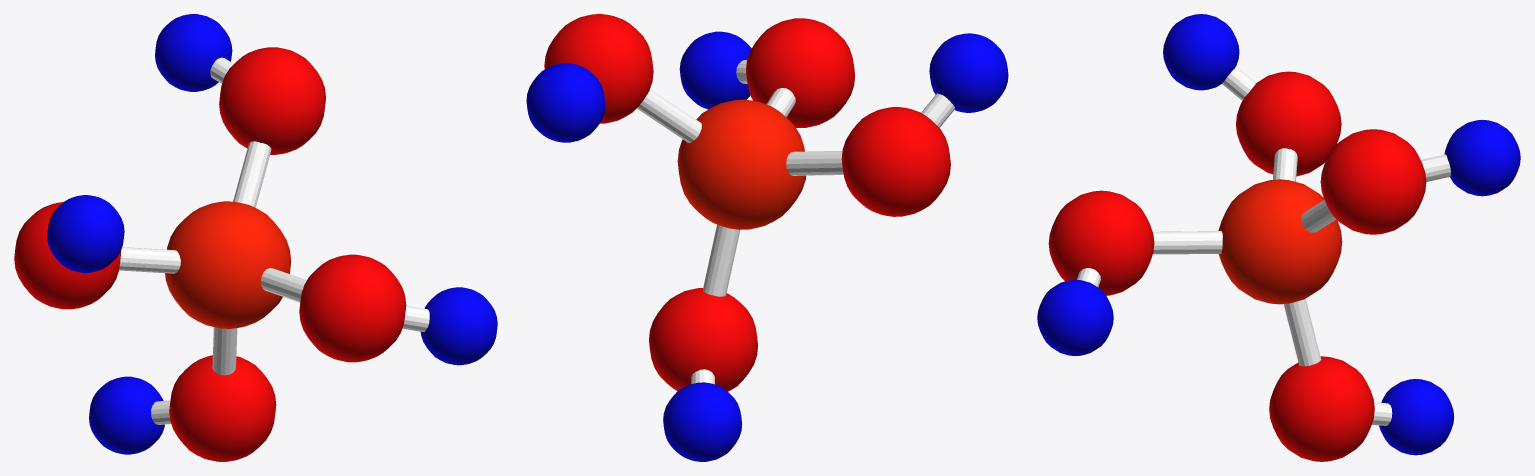
Rendered from acido_fosforico.obj.
3 views of the same model, side by side, from view 1: azimuth 30°, elevation 25°; view 2: azimuth 150°, elevation 25°; view 3: azimuth 270°, elevation 25° (orthographic). The views are drawn at different scales.
Parts seen in each view (by area): view 1: fosforo_Shape_Sphere.001, oxigenio.002_Shape_Sphere.006, oxigenio.003_Shape_Sphere.002, oxigenio_Shape_Sphere.008, oxigenio.001_Shape_Sphere.004, hidrogenio.001_Shape_Sphere.005, hidrogenio.002_Shape_Sphere.007, hidrogenio_Shape_Sphere, hidrogenio.003_Shape_Sphere.003, Shape_Cylinder.001, Shape_Cylinder.002, Shape_Cylinder (+3 smaller); view 2: fosforo_Shape_Sphere.001, oxigenio.001_Shape_Sphere.004, oxigenio.002_Shape_Sphere.006, oxigenio_Shape_Sphere.008, oxigenio.003_Shape_Sphere.002, hidrogenio.003_Shape_Sphere.003, hidrogenio_Shape_Sphere, hidrogenio.001_Shape_Sphere.005, hidrogenio.002_Shape_Sphere.007, Shape_Cylinder.007, Shape_Cylinder.006, Shape_Cylinder (+4 smaller); view 3: fosforo_Shape_Sphere.001, oxigenio.003_Shape_Sphere.002, oxigenio_Shape_Sphere.008, oxigenio.002_Shape_Sphere.006, oxigenio.001_Shape_Sphere.004, hidrogenio.002_Shape_Sphere.007, hidrogenio.001_Shape_Sphere.005, hidrogenio.003_Shape_Sphere.003, hidrogenio_Shape_Sphere, Shape_Cylinder.005, Shape_Cylinder.004, Shape_Cylinder.007 (+3 smaller).
Boxes of the visible parts, x1,y1,x2,y2 form: fosforo_Shape_Sphere.001: (165,201,291,328); oxigenio.002_Shape_Sphere.006: (299,254,406,362); oxigenio.003_Shape_Sphere.002: (219,47,325,154); oxigenio_Shape_Sphere.008: (169,355,276,461); oxigenio.001_Shape_Sphere.004: (14,202,121,309); hidrogenio.001_Shape_Sphere.005: (47,195,124,272); hidrogenio.002_Shape_Sphere.007: (420,287,497,365); hidrogenio_Shape_Sphere: (89,376,164,454); hidrogenio.003_Shape_Sphere.003: (155,14,232,91); Shape_Cylinder.001: (240,141,271,181); Shape_Cylinder.002: (144,248,180,273); Shape_Cylinder: (233,173,262,207); fosforo_Shape_Sphere.001: (677,99,806,229); oxigenio.001_Shape_Sphere.004: (841,107,950,216); oxigenio.002_Shape_Sphere.006: (746,18,854,127); oxigenio_Shape_Sphere.008: (649,288,757,391); oxigenio.003_Shape_Sphere.002: (544,14,653,123); hidrogenio.003_Shape_Sphere.003: (526,63,605,142); hidrogenio_Shape_Sphere: (663,382,742,461); hidrogenio.001_Shape_Sphere.005: (929,33,1008,112); hidrogenio.002_Shape_Sphere.007: (679,31,751,109); Shape_Cylinder.007: (703,256,733,296); Shape_Cylinder.006: (710,224,740,262); Shape_Cylinder: (661,105,701,142); fosforo_Shape_Sphere.001: (1218,179,1342,304); oxigenio.003_Shape_Sphere.002: (1320,129,1426,234); oxigenio_Shape_Sphere.008: (1269,356,1374,461); oxigenio.002_Shape_Sphere.006: (1048,190,1154,295); oxigenio.001_Shape_Sphere.004: (1236,71,1341,176); hidrogenio.002_Shape_Sphere.007: (1037,279,1113,355); hidrogenio.001_Shape_Sphere.005: (1163,14,1239,90); hidrogenio.003_Shape_Sphere.003: (1444,119,1520,196); hidrogenio_Shape_Sphere: (1379,379,1454,455); Shape_Cylinder.005: (1153,231,1188,254); Shape_Cylinder.004: (1186,231,1222,254); Shape_Cylinder.007: (1291,328,1321,366).
Bounding box in the file's own units: 3.67 × 3.58 × 4.17.
